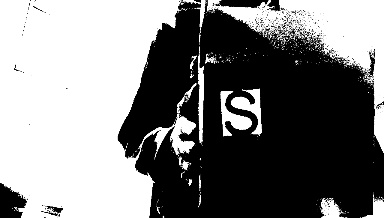S: (220, 88, 261, 135)
